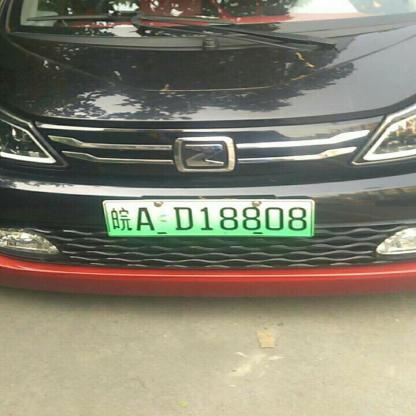lp: (100, 199, 313, 236)
